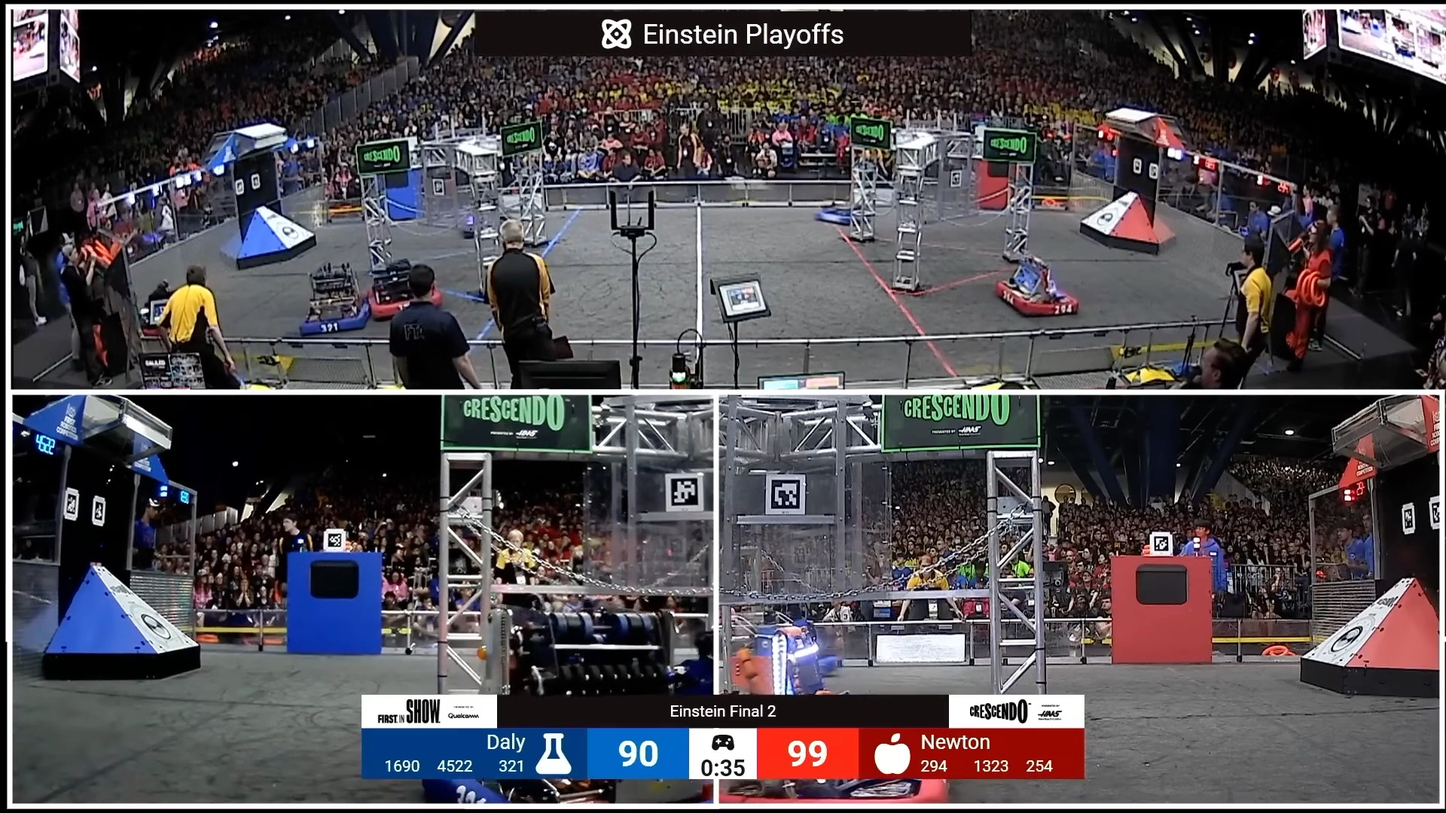bumpers: (714, 769, 981, 805), (362, 277, 456, 322), (994, 277, 1084, 323), (295, 296, 381, 339), (808, 202, 888, 230)
